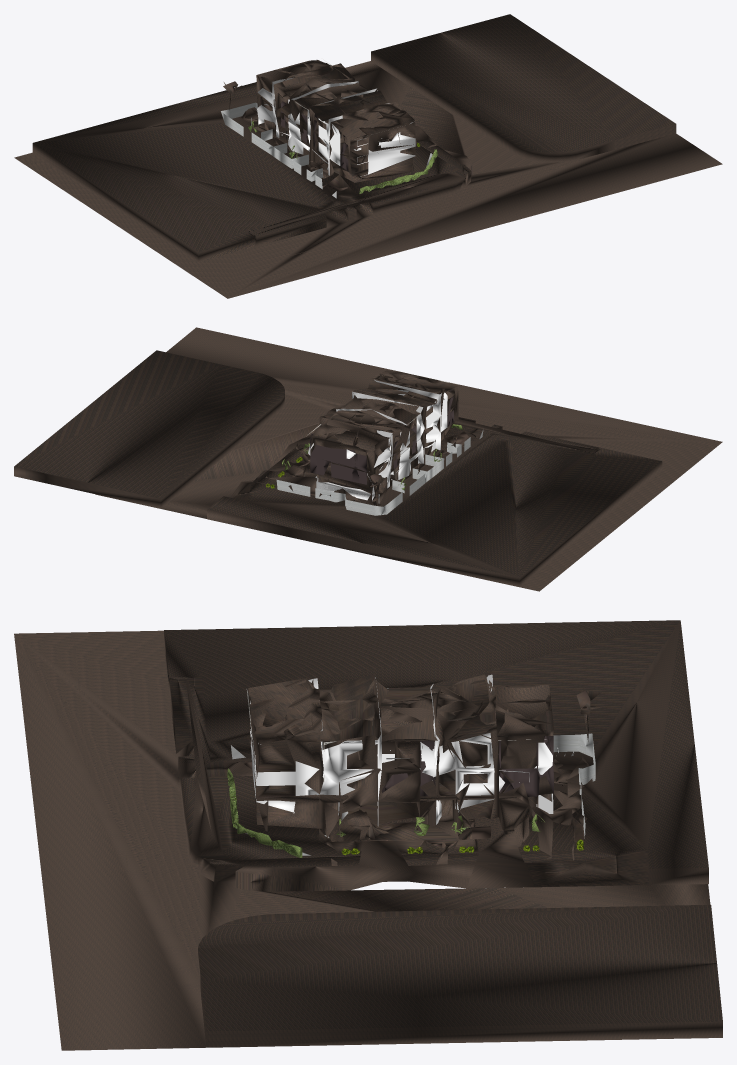
Rendered from hills_estate.glb.
3 renders of one model, top to bottom at view 1: azimuth 30°, elevation 25°; view 2: azimuth 150°, elevation 25°; view 3: azimuth 270°, elevation 25°, orthographic. The views are drawn at different scales.
Parts seen in each view (by area): view 1: body; view 2: body; view 3: body.
Part boxes in pixels (box(x1,y1,x2,y2)): body: box(14, 14, 722, 298); body: box(14, 327, 722, 591); body: box(14, 620, 722, 1050).
Size of the model in its own units: 24 by 3 by 16.73.
12 materials, 6 textured.
